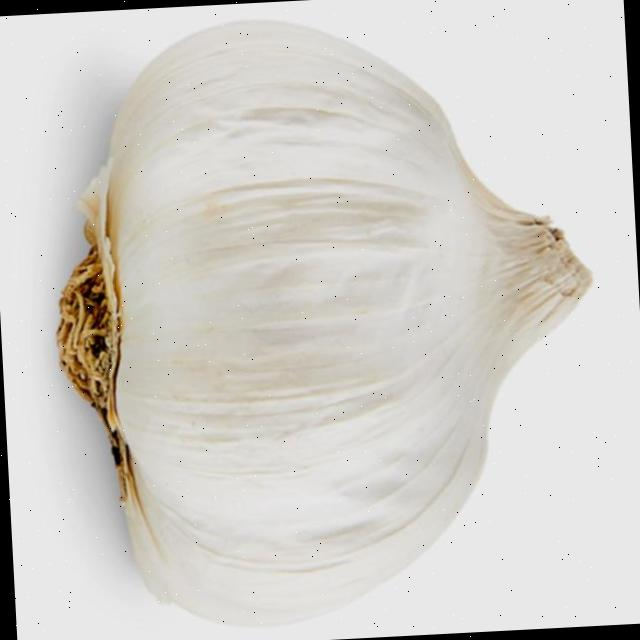garlic: (58, 23, 589, 625)
